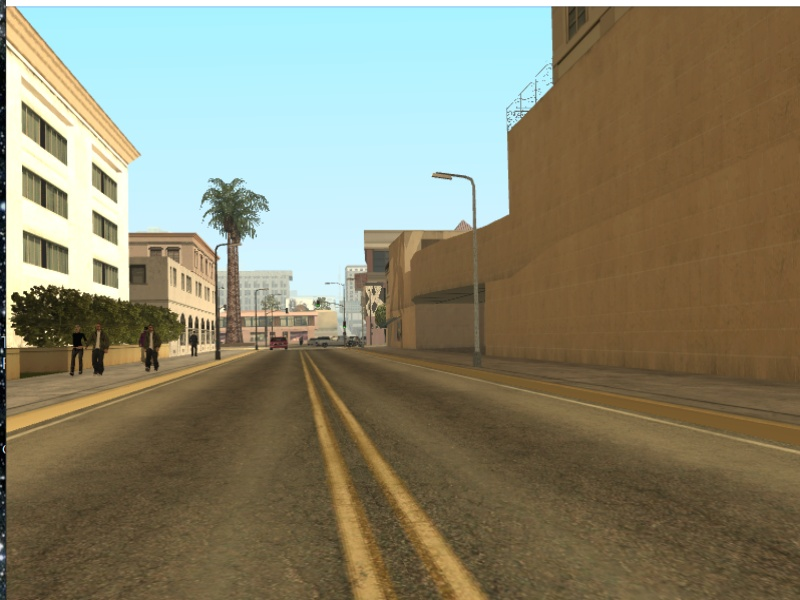person: (90, 322, 114, 376), (66, 325, 86, 377), (142, 327, 163, 372), (186, 330, 201, 357)
pole: (467, 178, 488, 370), (214, 246, 224, 360), (253, 290, 261, 354), (340, 304, 349, 350)
tree: (222, 235, 245, 346)
vehicle: (269, 335, 290, 352), (314, 336, 336, 349)
